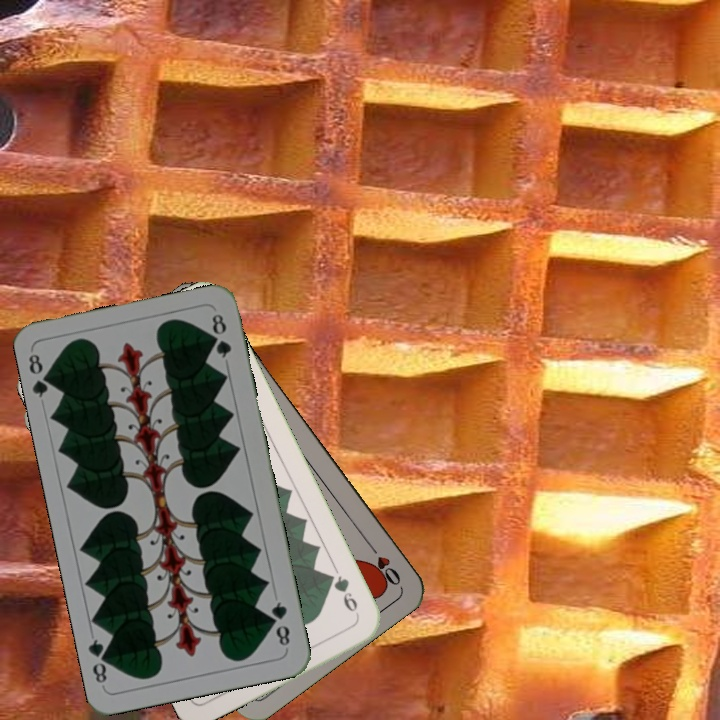G8: (24, 350, 57, 400), (267, 597, 293, 649)
G9: (323, 569, 361, 615)
HO: (362, 538, 404, 589)
